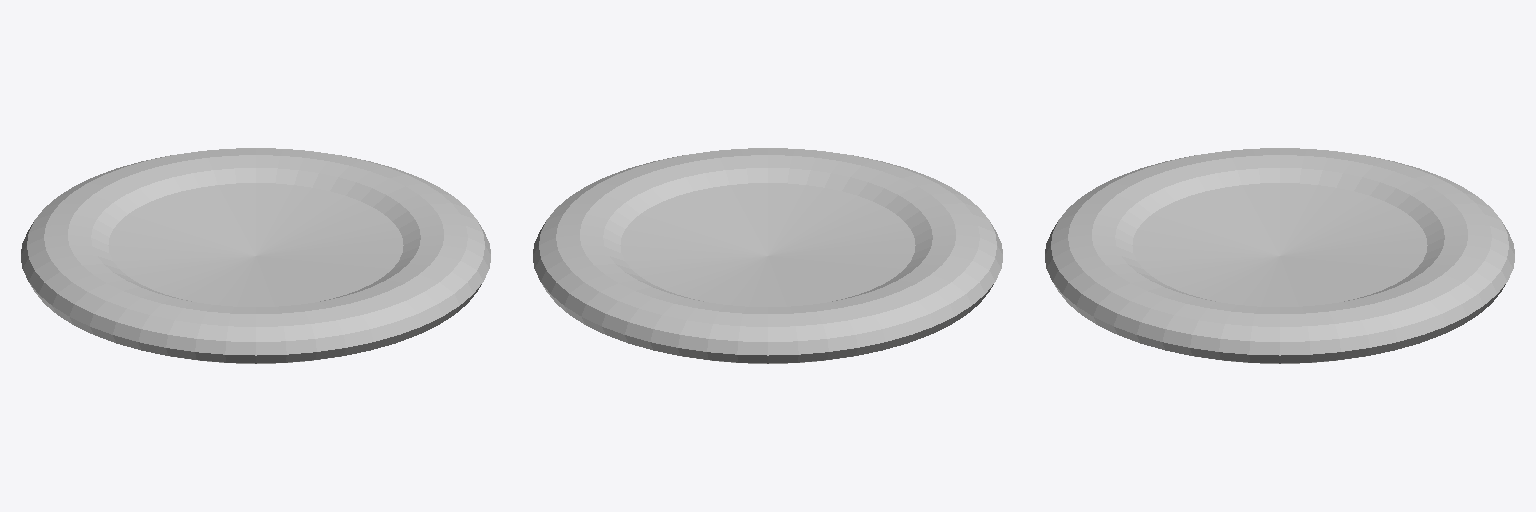
Rendered from disk.obj.
3 views of the same model, side by side, from view 1: azimuth 30°, elevation 25°; view 2: azimuth 150°, elevation 25°; view 3: azimuth 270°, elevation 25° (orthographic).
Parts seen in each view (by area): view 1: Mesh_disk; view 2: Mesh_disk; view 3: Mesh_disk.
Boxes of the visible parts, x1=… form: Mesh_disk: x1=21, y1=148, x2=490, y2=363; Mesh_disk: x1=533, y1=148, x2=1002, y2=363; Mesh_disk: x1=1045, y1=148, x2=1514, y2=363.
Size of the model in its own units: 1 by 0.1 by 1.